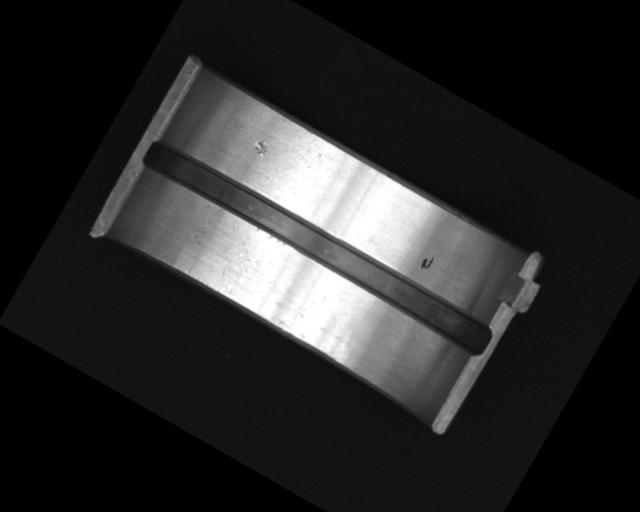blot: (418, 252, 436, 273)
bruise: (250, 135, 273, 159)
gap: (138, 131, 497, 359)
